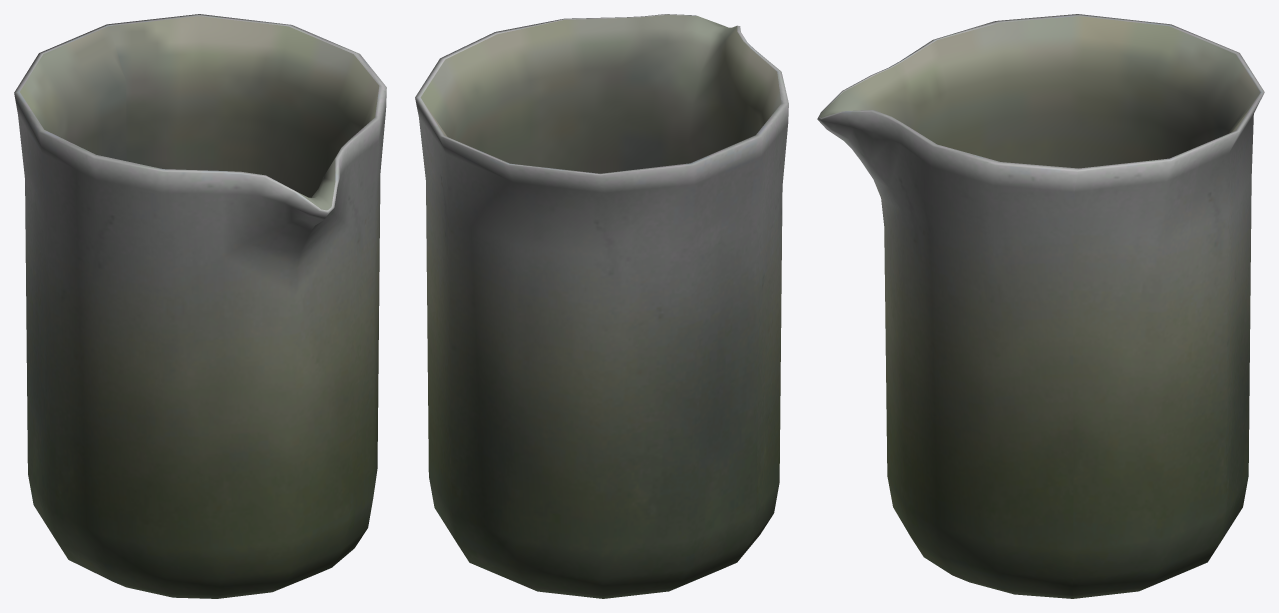
The model's file is beaker_large_w_algae.DAE.
3 views of the same model, side by side, from view 1: azimuth 30°, elevation 25°; view 2: azimuth 150°, elevation 25°; view 3: azimuth 270°, elevation 25° (orthographic).
Parts seen in each view (by area): view 1: beaker_large_w_algae; view 2: beaker_large_w_algae; view 3: beaker_large_w_algae.
Part boxes in pixels (<box>): beaker_large_w_algae: <box>14,14,386,598</box>; beaker_large_w_algae: <box>415,14,788,598</box>; beaker_large_w_algae: <box>817,14,1264,598</box>.
Size of the model in its own units: 11.71 by 14.02 by 15.73.
